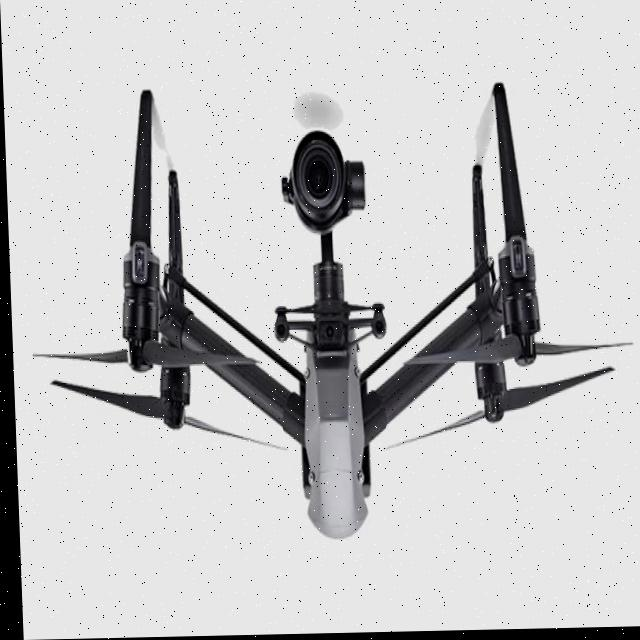drone: (22, 148, 600, 517)
